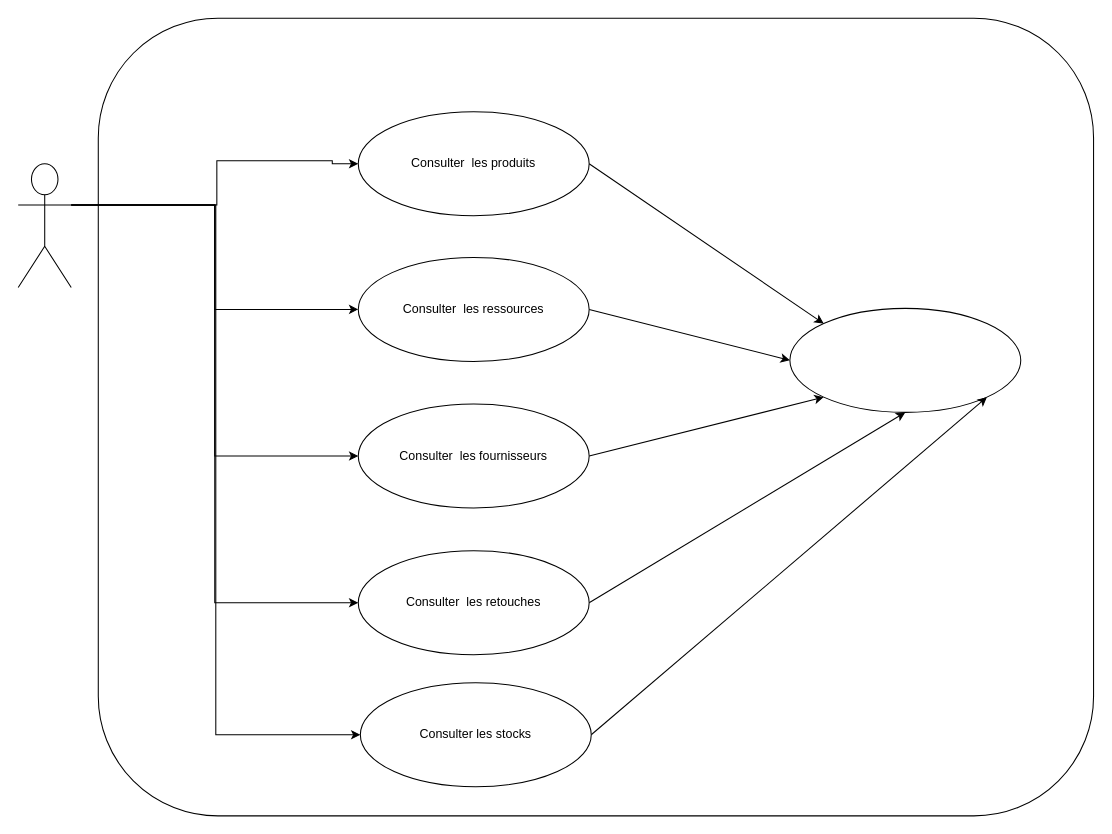
Some shapes in this 1112 by 834 pixel diagram are drawn without their labels. The box of each missing label's shape, as (x1, y1, x2, y2) in pixels:
Admin: (17, 163, 71, 288)
CRUD: (789, 307, 1021, 412)
